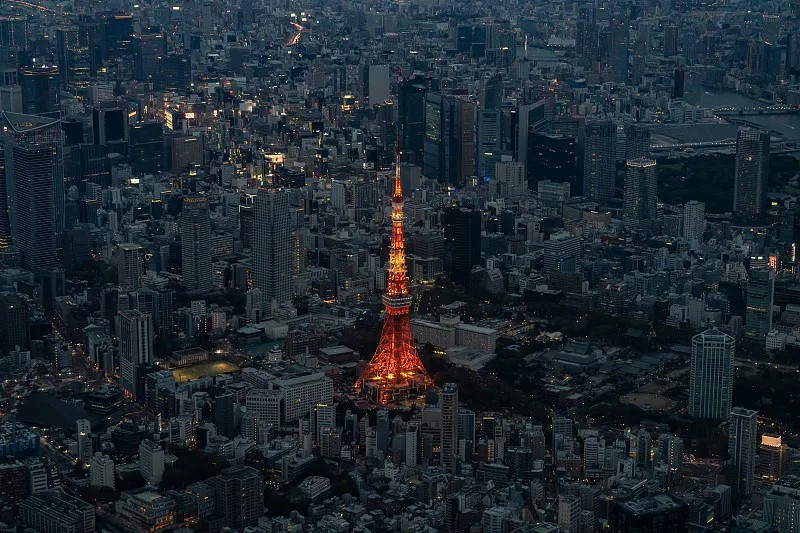Tokyo: (353, 133, 436, 408)
